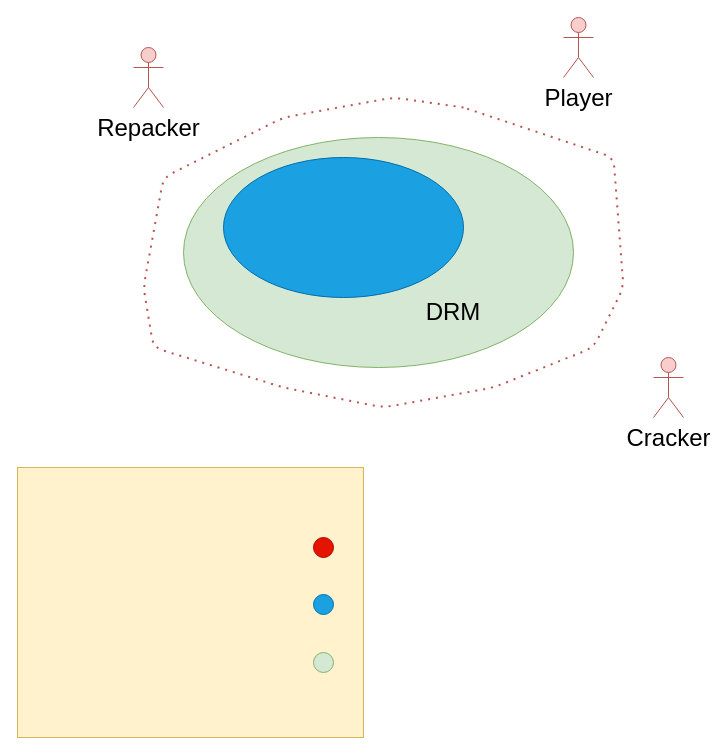
This 728x755 diagram has some shape labels left out. The shapes that lost their labels are listed below. From the top down, each one's box as (x1, y1, x2, y2) in pixels, then its label:
(222, 156, 464, 298): Video game
(16, 466, 364, 738): Način napada - Resursi koje branimo - Odbrana resursa -
